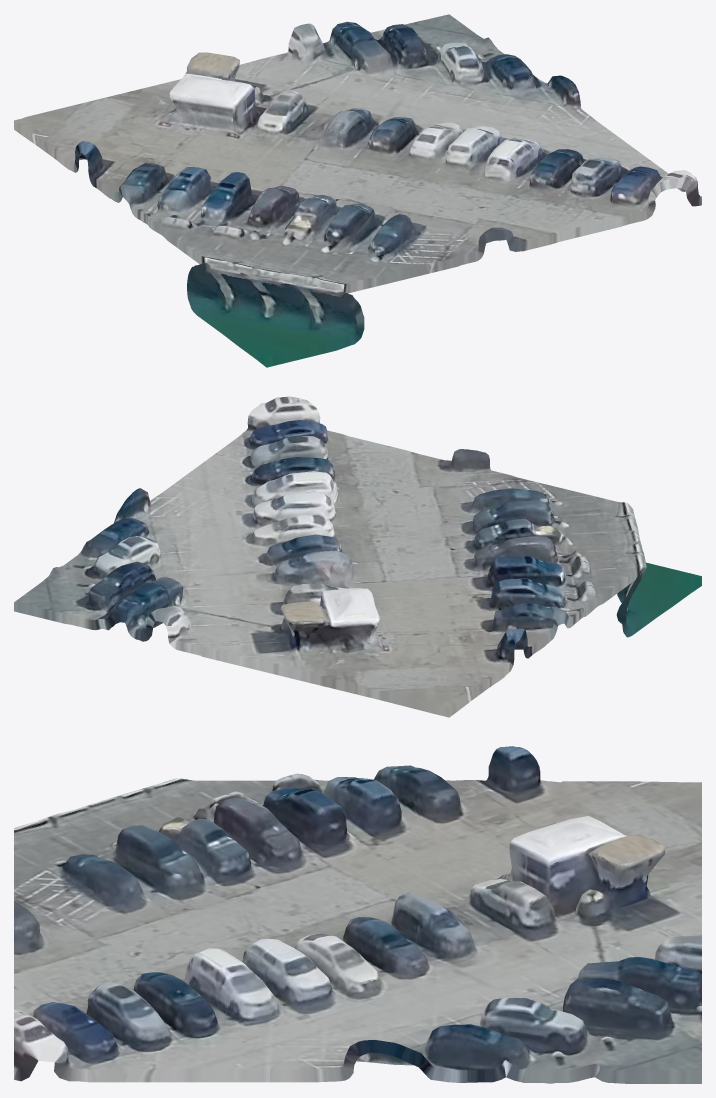
File: z20-167786-405211-h0-yup-uvflip-v3-world.glb
3 renders of one model, top to bottom at view 1: azimuth 30°, elevation 25°; view 2: azimuth 150°, elevation 25°; view 3: azimuth 270°, elevation 25°, orthographic. The views are drawn at different scales.
Bounding box in the file's own units: 30.16 × 6.8 × 30.32.
Materials: 1 (1 with a texture image).
